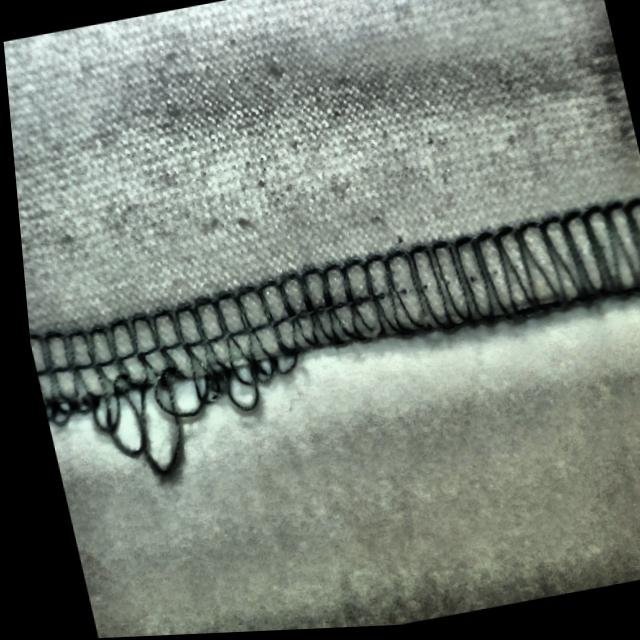Stitch: (20, 278, 313, 496)
